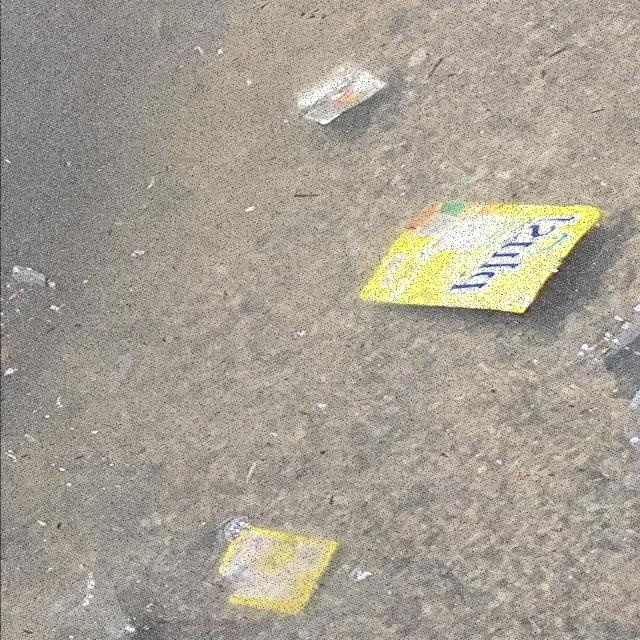plastic_waste: (357, 202, 606, 316), (217, 526, 341, 618), (292, 63, 391, 127)
